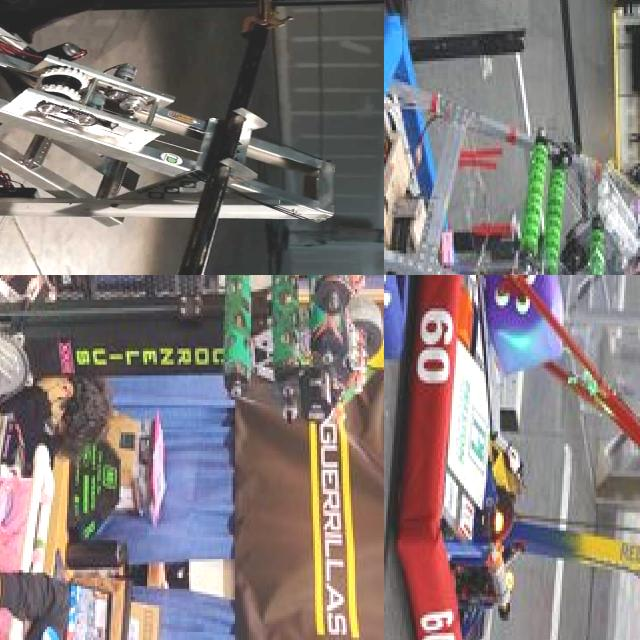FRC-Robots: (0, 12, 360, 264), (385, 286, 640, 640), (384, 30, 640, 275), (0, 275, 96, 640)
